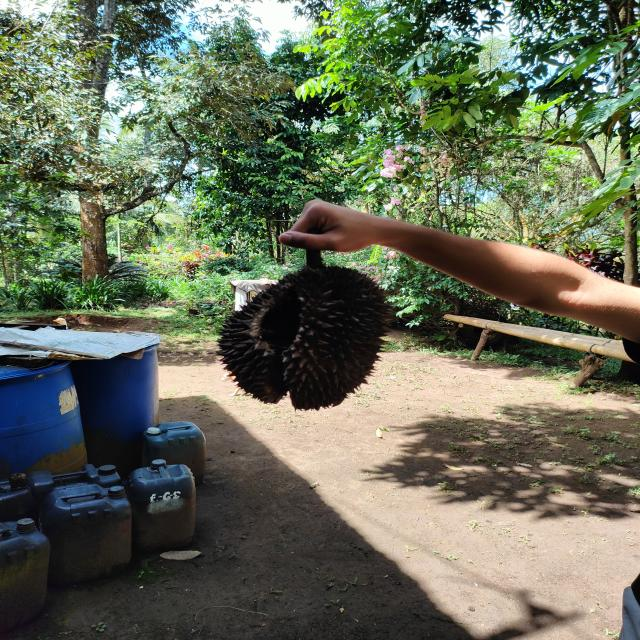defective: (213, 260, 398, 412)
